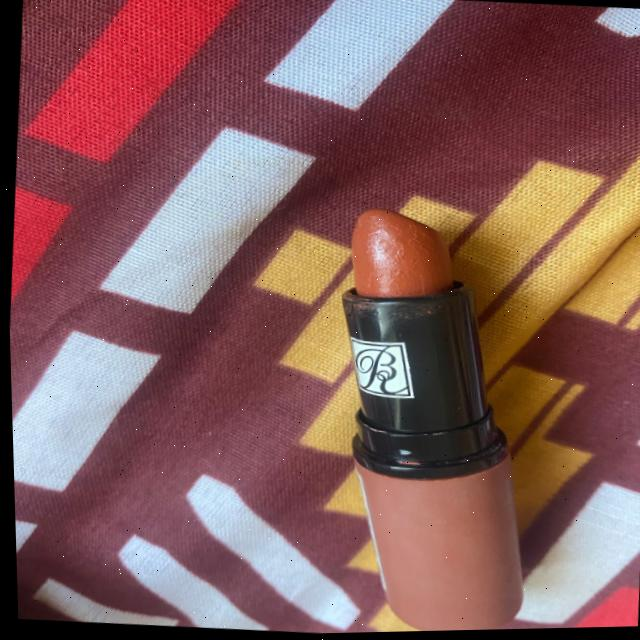lip stick: (274, 191, 551, 635)
